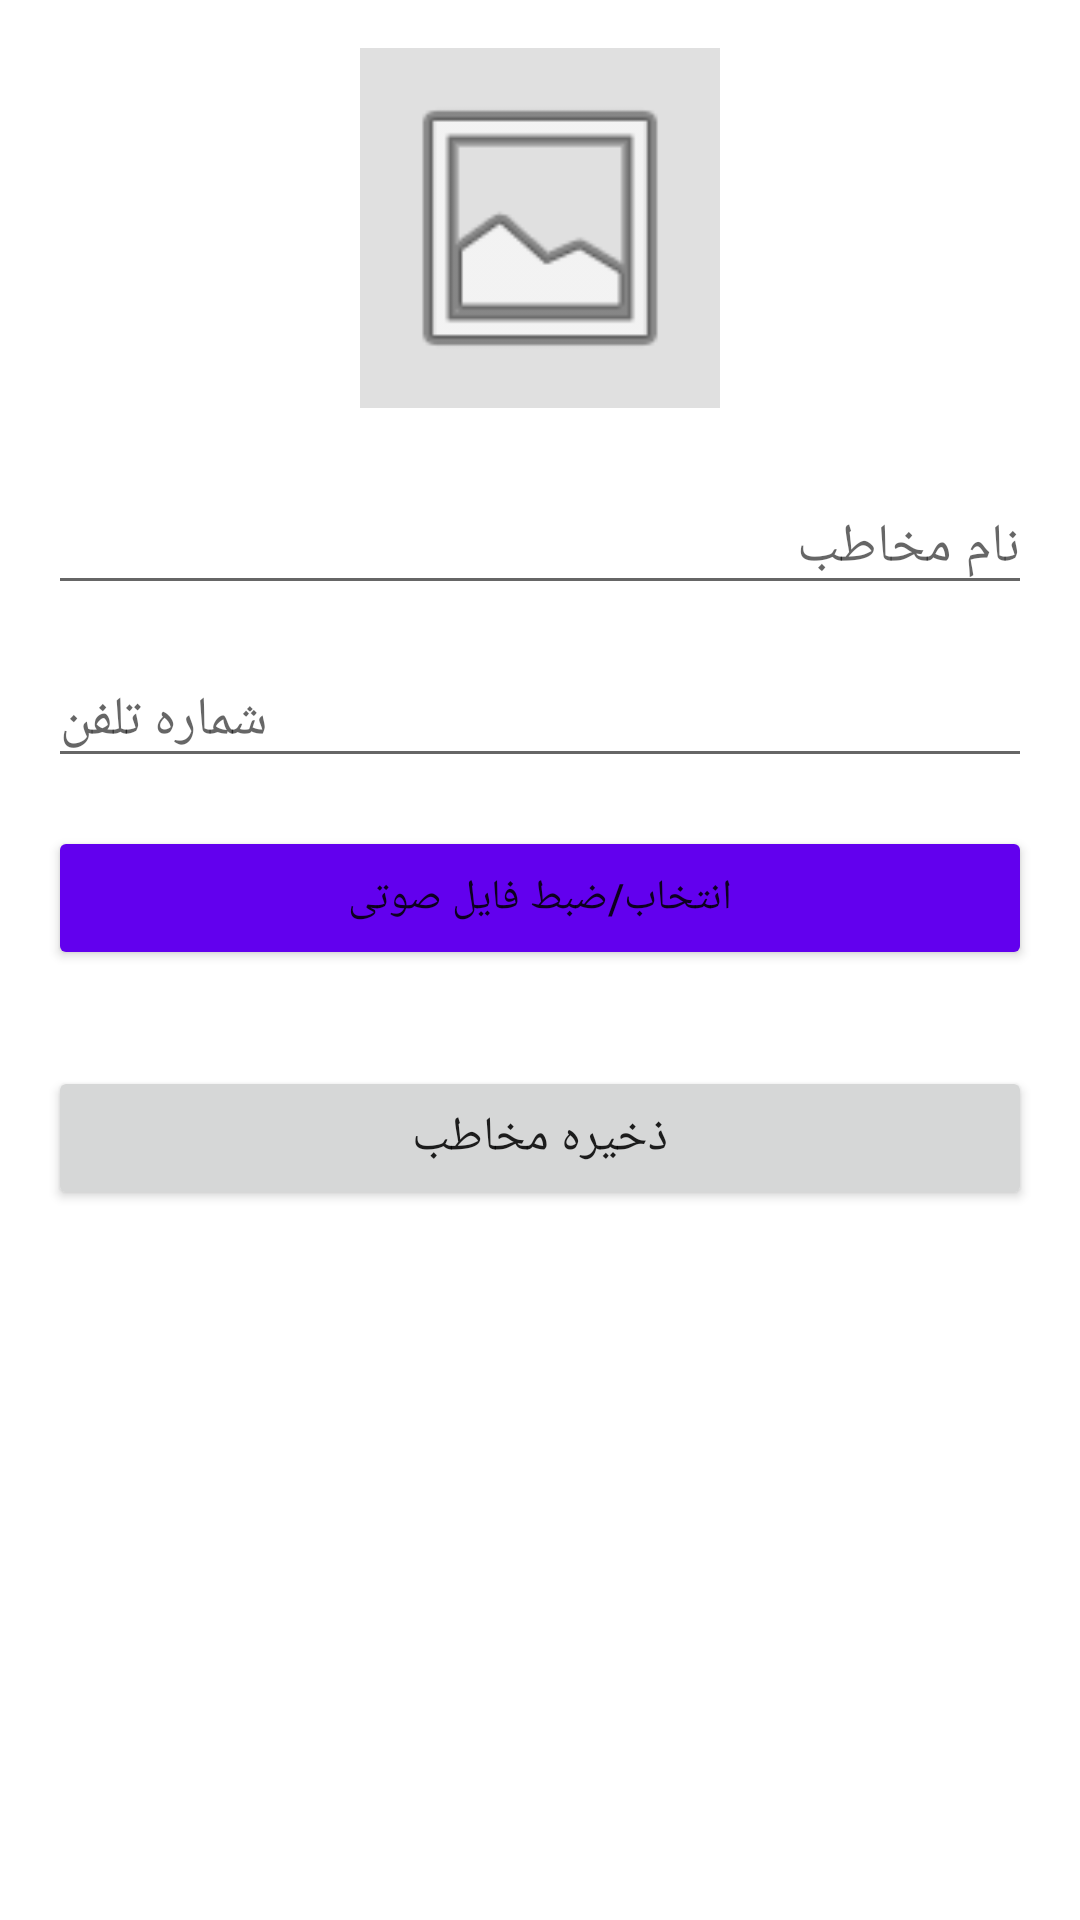

Screen size 1080px x 1920px. Icon name, then its center in pixels as [x,y]:
gallery: [540,228]
